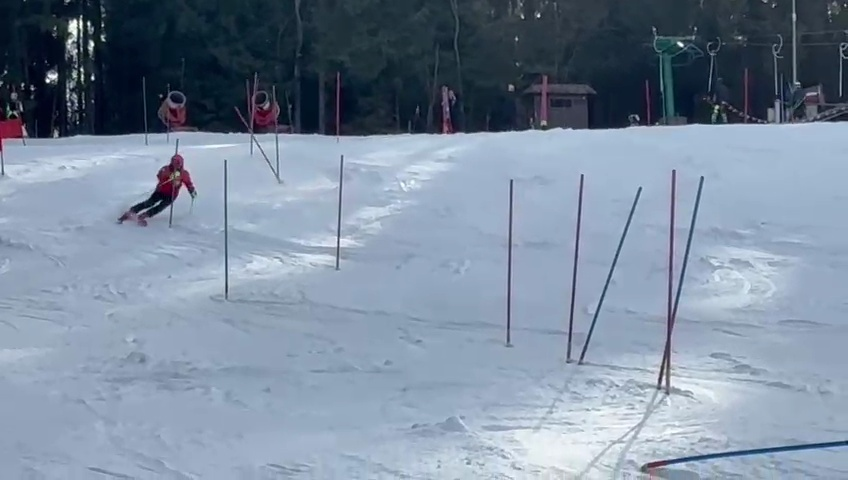gate: (615, 405, 848, 476), (576, 175, 648, 371), (656, 161, 705, 402), (629, 428, 825, 480), (564, 168, 586, 367), (498, 172, 520, 354), (216, 153, 238, 302), (329, 150, 349, 272), (269, 75, 286, 189), (247, 131, 281, 184), (240, 69, 261, 152), (330, 68, 345, 143), (137, 76, 152, 147), (273, 86, 283, 183), (15, 82, 28, 149), (0, 92, 9, 179), (163, 85, 174, 145), (438, 84, 450, 138)
